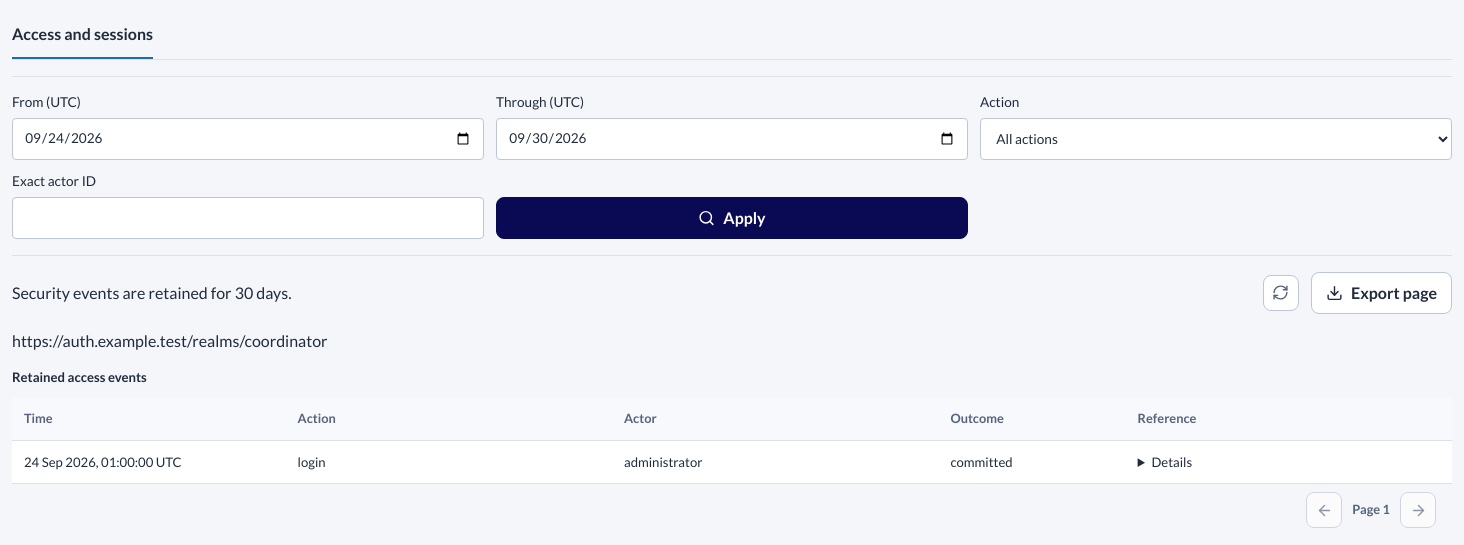
Test: global access activity needs no repository or manually entered issuer
Expected: the table "Retained access events" is shown, x1=12 y1=368 x2=1452 y2=483
Expected: the text "https://auth.example.test/realms/coordinator" is shown, x1=12 y1=331 x2=328 y2=350
Select "logout" in the dropdown labelled "Action" at (1216, 139), box x1=980 y1=118 x2=1452 y2=160
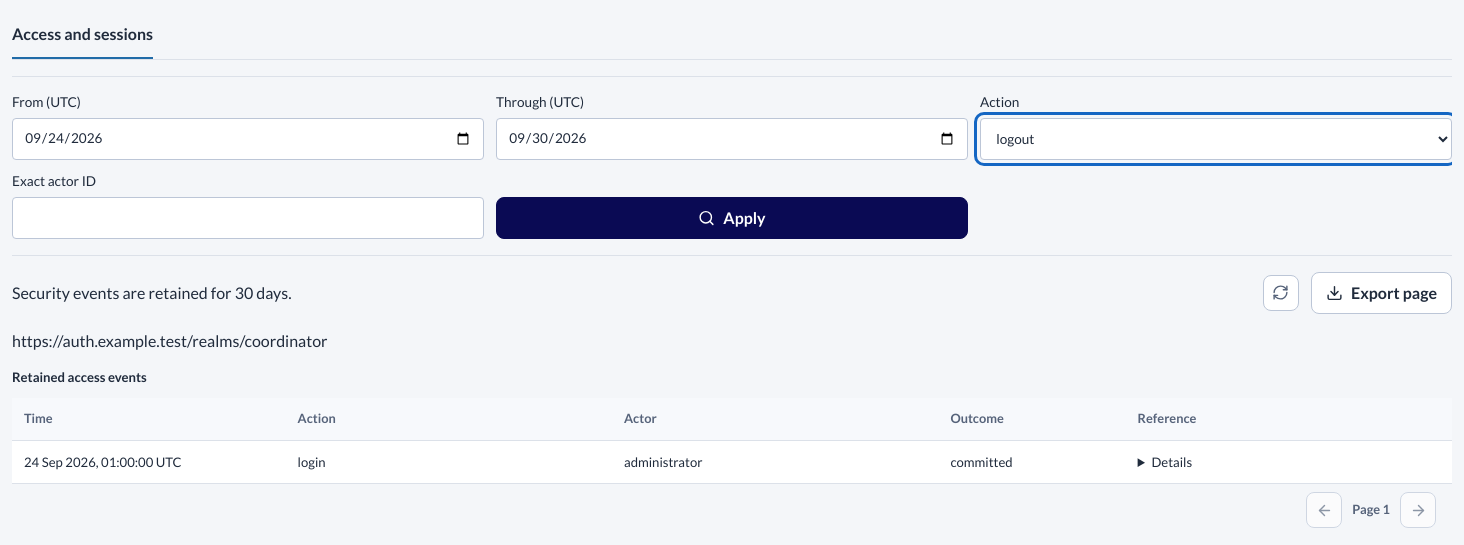
Click the button "Apply" at (732, 218), box x1=496 y1=197 x2=968 y2=239
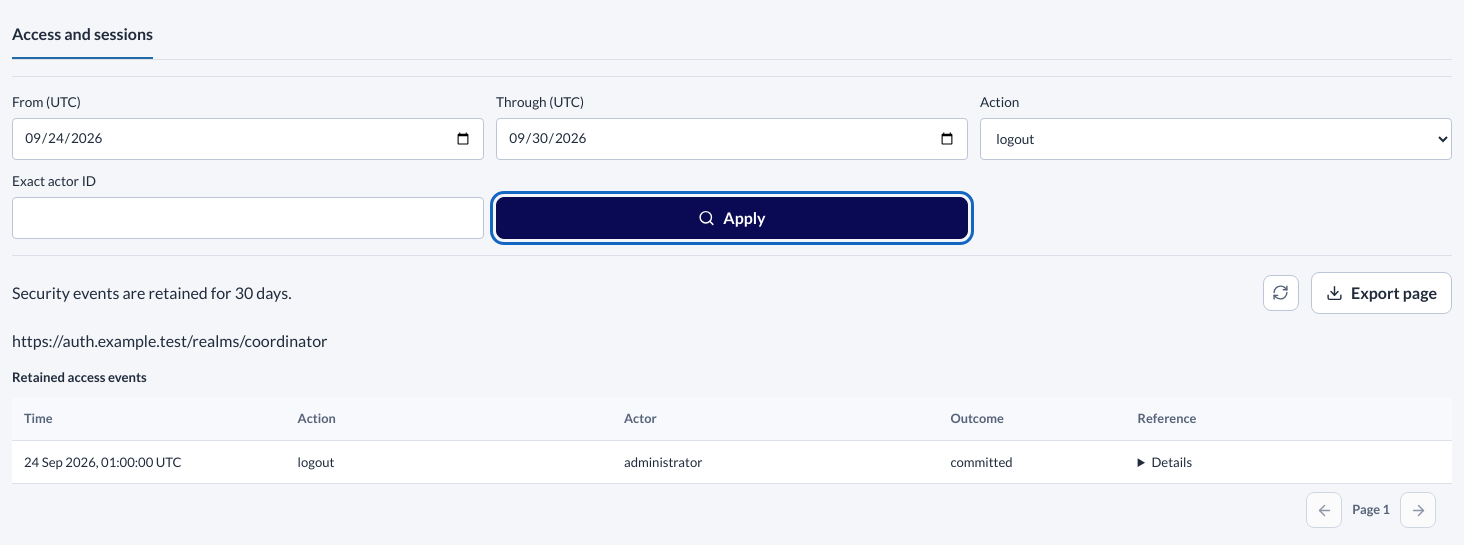
Expected: the cell "logout" is shown, x1=286 y1=440 x2=612 y2=483
